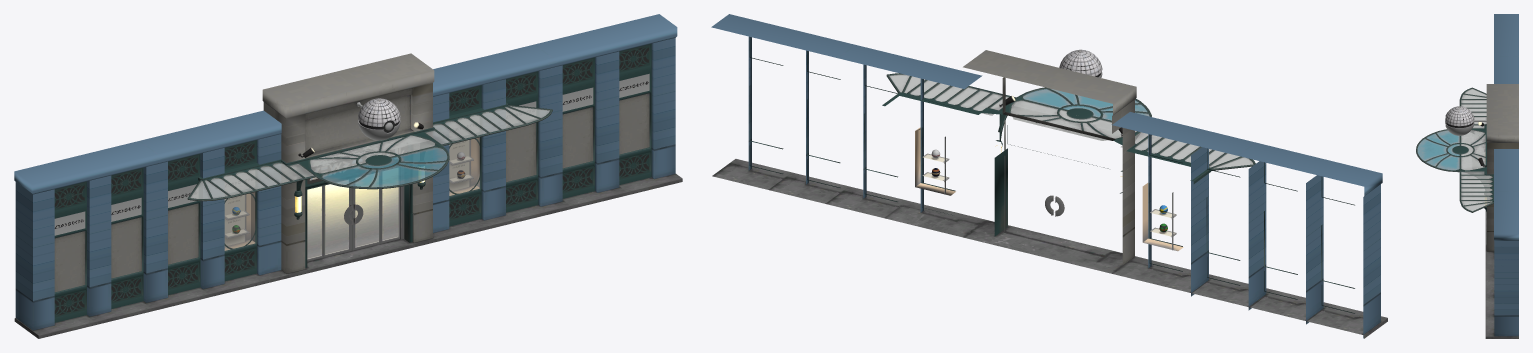
Rendered from t1_b_sphere_shop.glb.
The picture shows the model from 3 angles, left to right: view 1: azimuth 30°, elevation 25°; view 2: azimuth 150°, elevation 25°; view 3: azimuth 270°, elevation 25°; orthographic projection. The views are drawn at different scales.
Visible parts, largest first — view 1: nomerge_sphere_shop_mesh, um_t1_b_sphere_shop_model_t1_b_sphere_shop_modelShape; view 2: nomerge_sphere_shop_mesh, um_t1_b_sphere_shop_model_t1_b_sphere_shop_modelShape; view 3: nomerge_sphere_shop_mesh, um_t1_b_sphere_shop_model_t1_b_sphere_shop_modelShape.
Part boxes in pixels (x1,y1,x2,y2): nomerge_sphere_shop_mesh: (14, 14, 682, 338); um_t1_b_sphere_shop_model_t1_b_sphere_shop_modelShape: (190, 106, 549, 250); nomerge_sphere_shop_mesh: (711, 14, 1387, 338); um_t1_b_sphere_shop_model_t1_b_sphere_shop_modelShape: (889, 74, 1253, 168); nomerge_sphere_shop_mesh: (1416, 14, 1518, 338); um_t1_b_sphere_shop_model_t1_b_sphere_shop_modelShape: (1417, 89, 1492, 211).
Size of the model in its own units: 20.73 by 5.34 by 4.1.
Materials: 3 (3 with a texture image).
